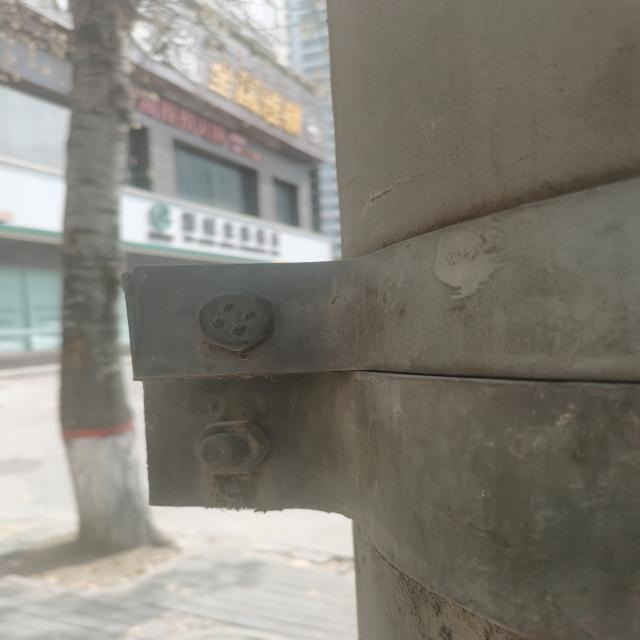bolt head: (186, 286, 277, 354)
bolt nut: (193, 418, 274, 476)
